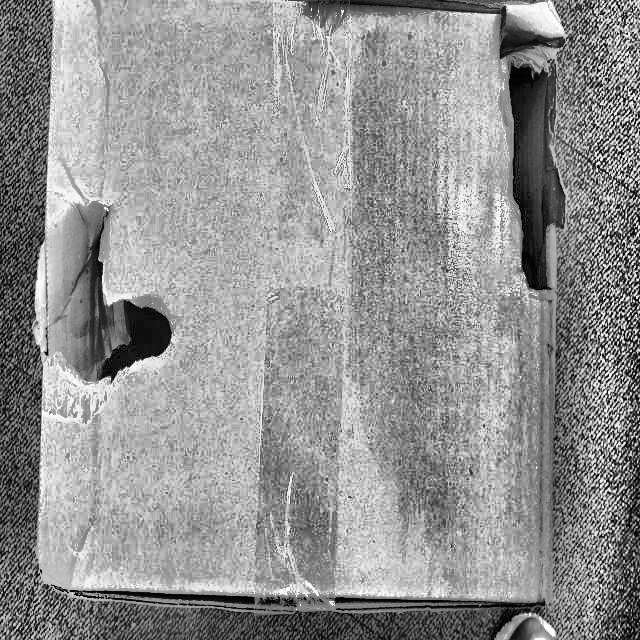box: (24, 0, 575, 616)
hole: (50, 196, 173, 408), (484, 11, 560, 300)
